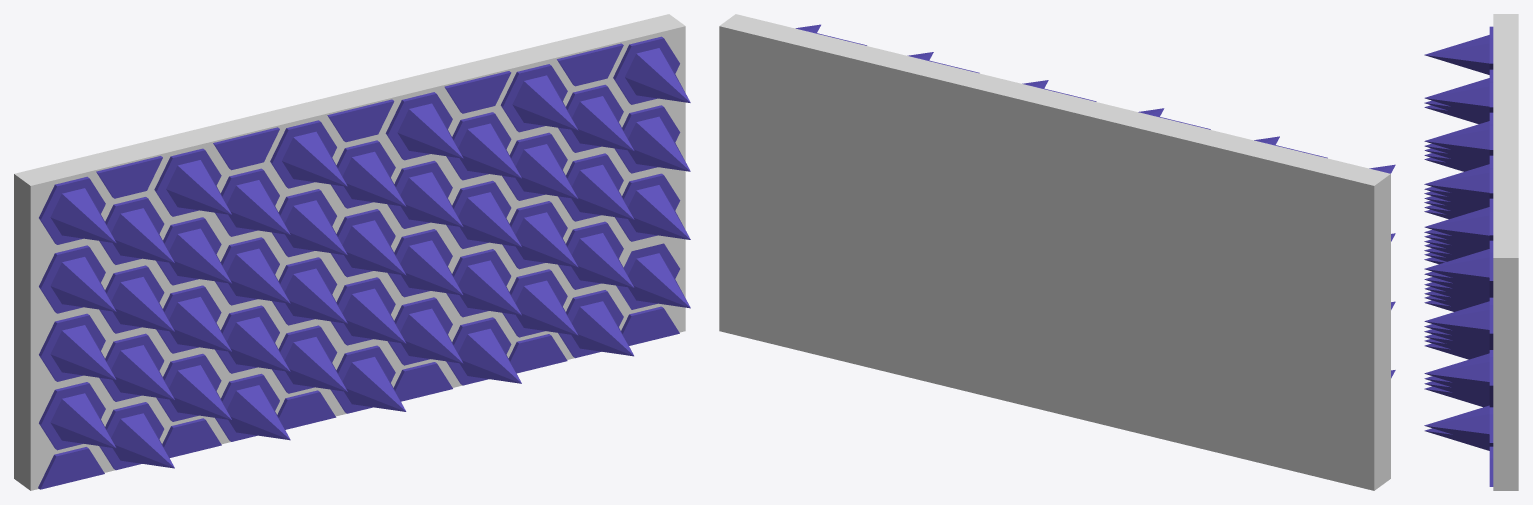
The model's file is spike1 - Copy.fbx.
3 views of the same model, side by side, from view 1: azimuth 30°, elevation 25°; view 2: azimuth 150°, elevation 25°; view 3: azimuth 270°, elevation 25° (orthographic). The views are drawn at different scales.
Visible parts, largest first — view 1: Cube.005; view 2: Cube.005; view 3: Cube.005.
Part boxes in pixels (<box>): Cube.005: <box>14,14,690,490</box>; Cube.005: <box>719,14,1395,490</box>; Cube.005: <box>1424,14,1518,490</box>.
Bounding box in the file's own units: 2251 × 1001 × 368.
